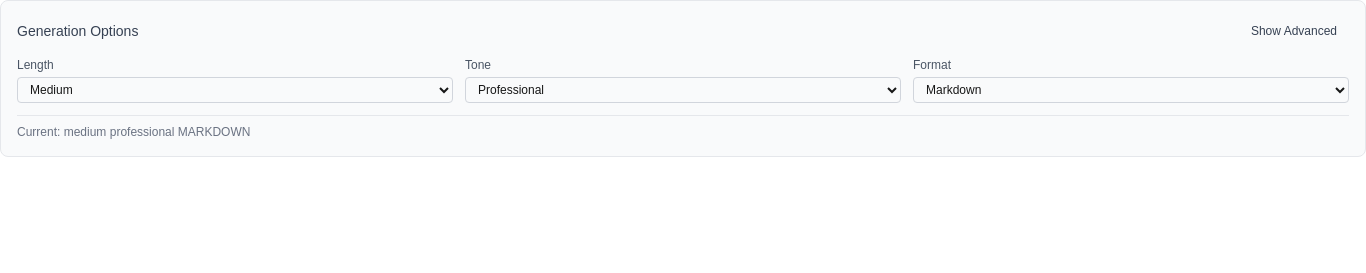
Test: Configuration Integration › should show advanced options in compact component
The width and height of the screenshot is (1366, 273).
Expected: the text "Template" is not shown
// Click show advanced
Click the button "Show Advanced" at (1294, 31), box [1239,17,1349,45]
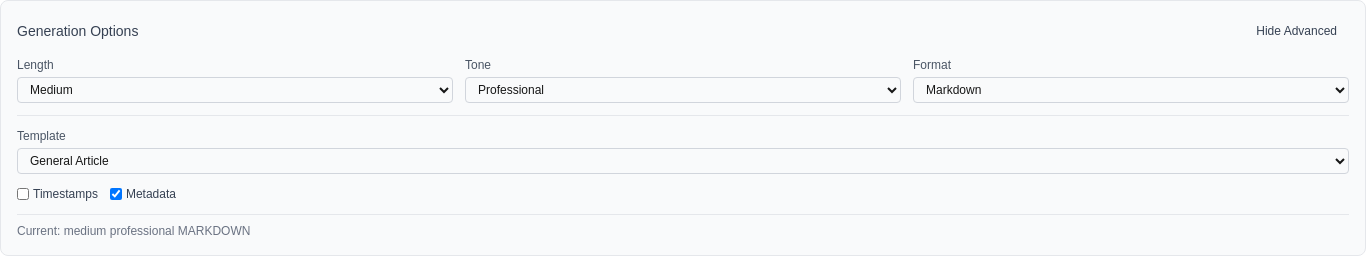
Now the text "Template" is shown, box [17,129,66,143]
Now the checkbox labelled "Timestamps" is shown, box [17,188,29,200]
Now the checkbox labelled "Metadata" is shown, box [110,188,122,200]
